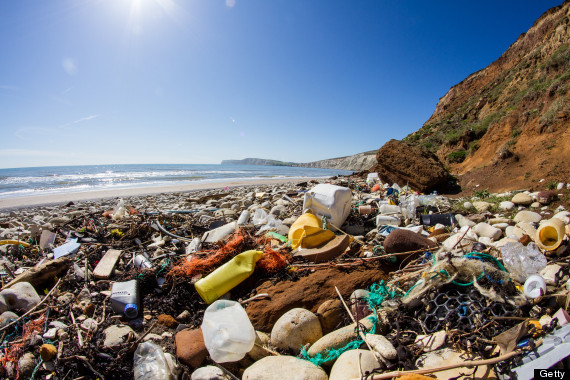litter: (289, 274, 384, 358), (3, 282, 51, 377), (191, 245, 272, 297), (199, 296, 259, 363), (422, 294, 508, 339), (302, 179, 357, 227), (501, 236, 554, 283), (283, 210, 341, 252), (103, 271, 150, 317), (126, 339, 178, 380), (91, 239, 131, 279), (516, 271, 556, 310), (45, 227, 88, 260), (535, 209, 566, 252), (409, 193, 450, 223), (377, 200, 406, 230), (130, 244, 156, 277), (252, 204, 272, 226)
